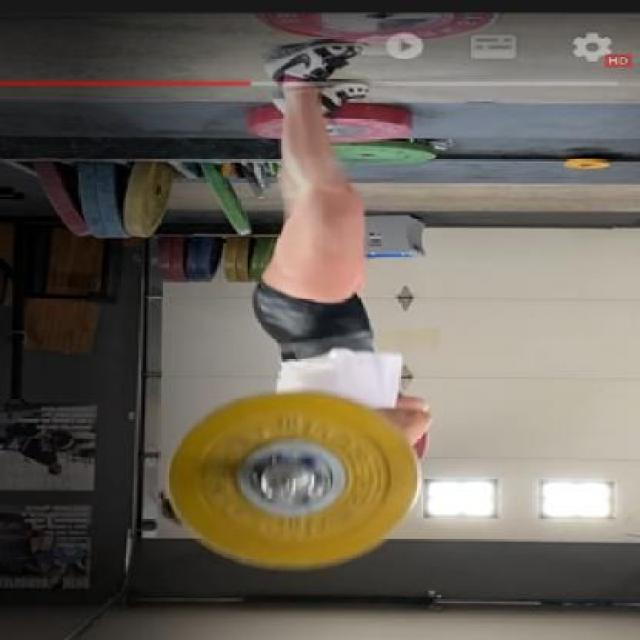Barbell: (253, 467, 304, 507)
